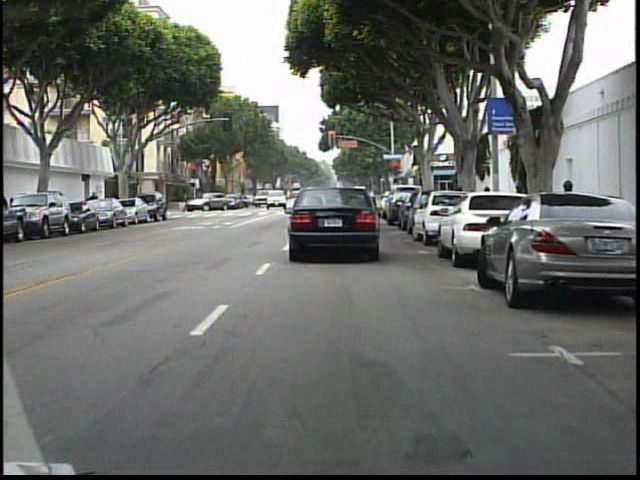person: (86, 187, 103, 224), (182, 190, 197, 215)
